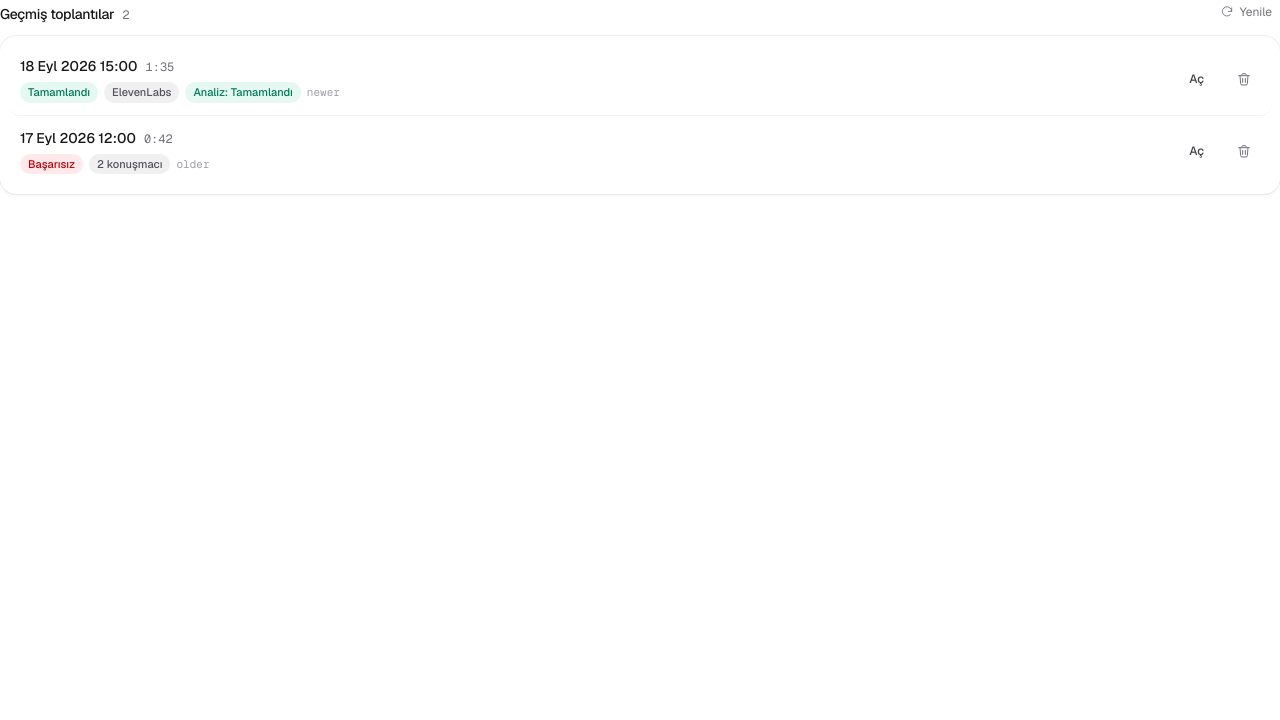
it: MeetingHistory deletion › offers a delete action per row that only opens a confirmation
This screenshot has width=1280, height=720.
Click the button named "Toplantıyı sil".
click(1244, 79)  # box [1228,63,1260,95]
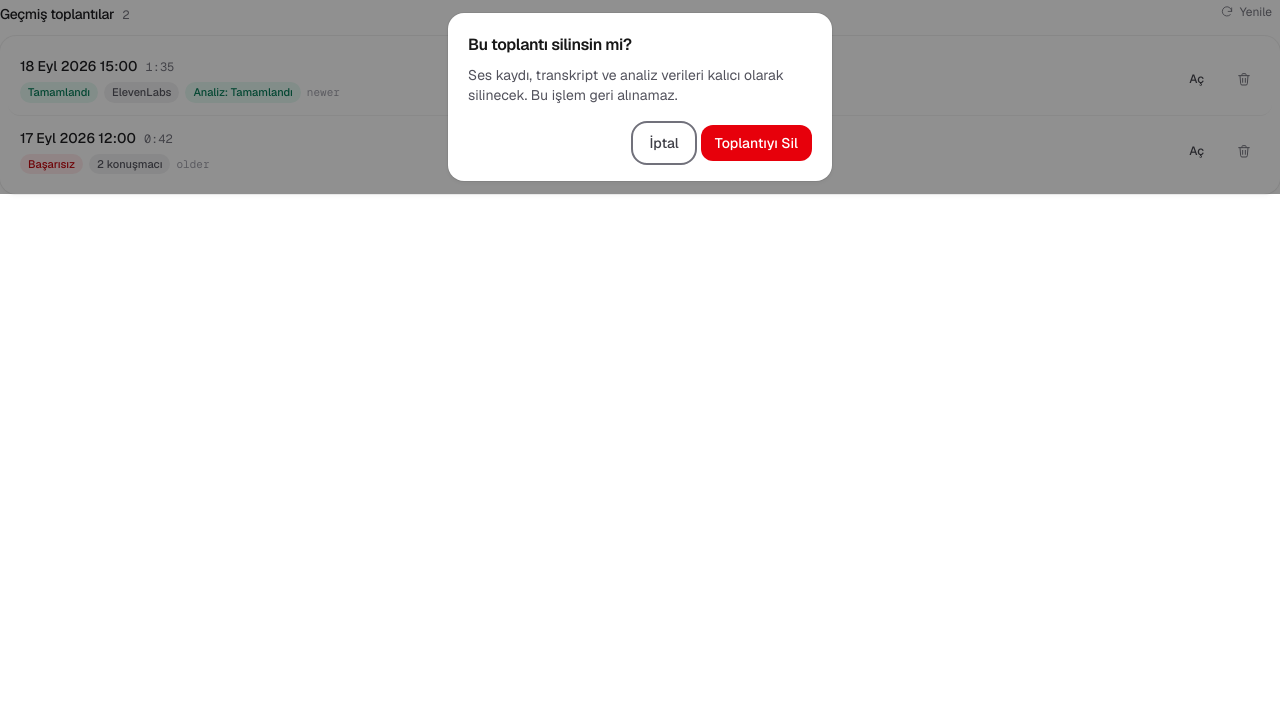
Now the dialog is shown, box [448,13,832,181]
Now the heading "Bu toplantı silinsin mi?" is shown, box [468,34,632,55]
Now the text "Ses kaydı, transkript ve analiz verileri kalıcı olarak silinecek" is shown, box [468,66,784,104]
